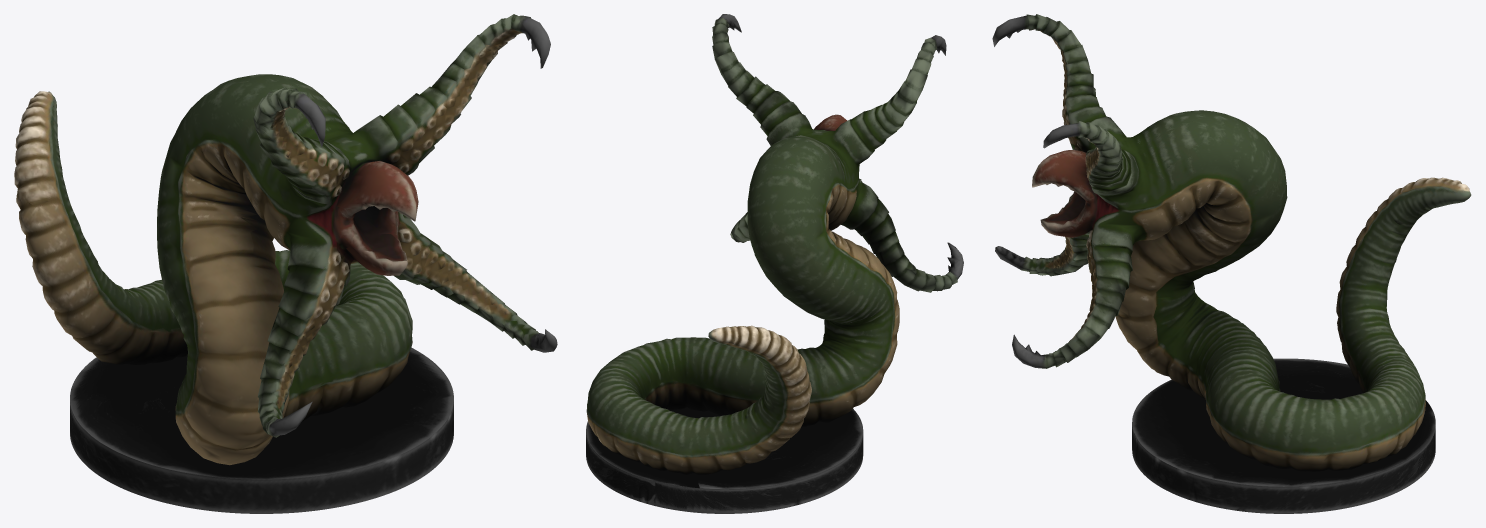
File: MZ4250 - Grick Green.glb
3 renders of one model, left to right at view 1: azimuth 30°, elevation 25°; view 2: azimuth 150°, elevation 25°; view 3: azimuth 270°, elevation 25°, orthographic. The views are drawn at different scales.
Visible parts, largest first — view 1: Grick_Updated.001, Grick_Updated.003; view 2: Grick_Updated.001, Grick_Updated.003; view 3: Grick_Updated.001, Grick_Updated.003.
Part boxes in pixels (x1,y1,x2,y2): Grick_Updated.001: (14,14,557,465); Grick_Updated.003: (70,347,453,513); Grick_Updated.001: (586,14,963,474); Grick_Updated.003: (586,407,863,513); Grick_Updated.001: (992,14,1471,471); Grick_Updated.003: (1132,358,1435,513).
Size of the model in its own units: 1.69 by 2.32 by 2.6.
1 material, 1 textured.
